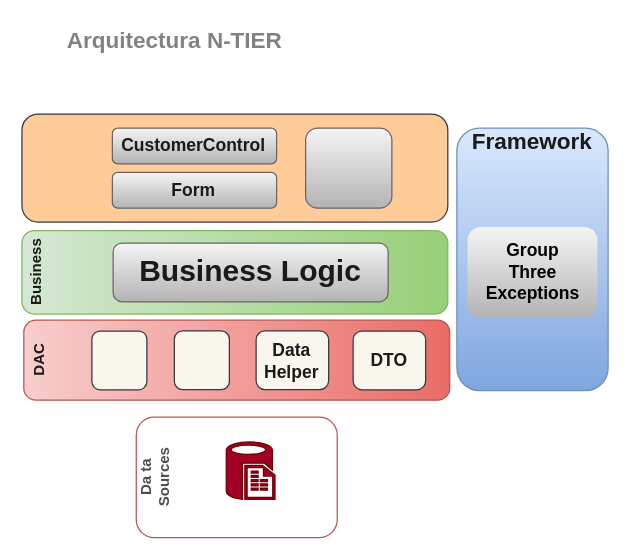
Some shapes in this 630 by 560 pixel diagram are drawn without their labels. Each missing label, with the box of its shape:
DAO: (91, 330, 147, 390)
IDAO: (173, 330, 229, 390)
Resource: (304, 127, 392, 208)
SQLITE: (225, 441, 275, 499)
User Interface: (21, 113, 448, 222)
